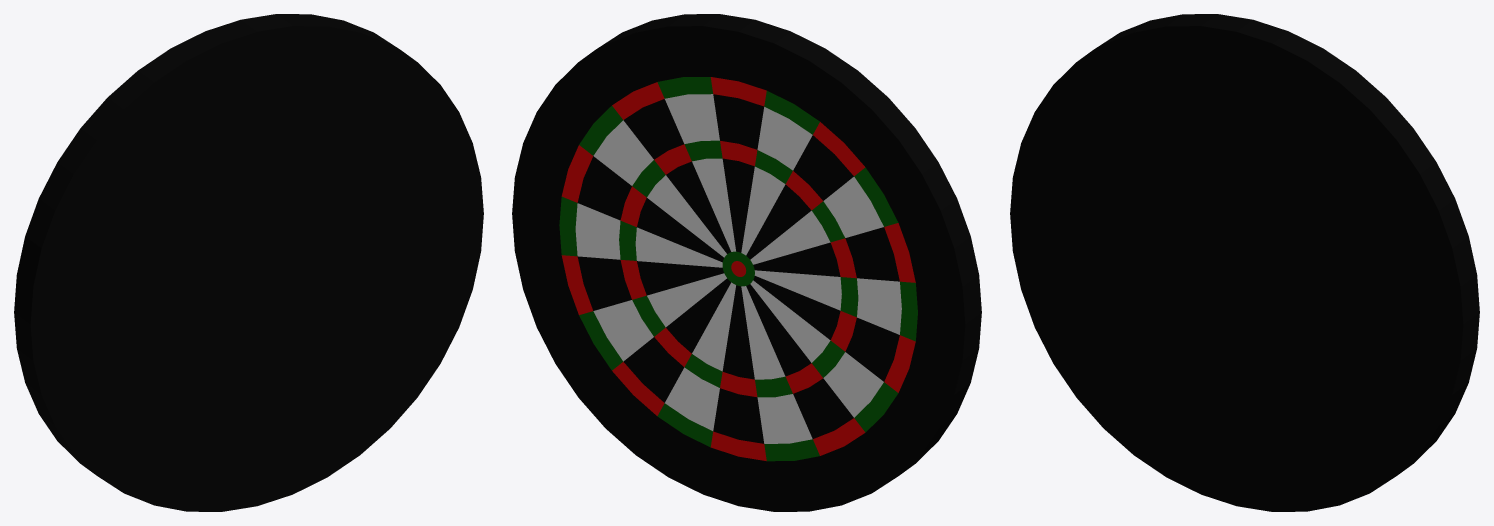
Rendered from darts_terget.fbx.
The picture shows the model from 3 angles, left to right: view 1: azimuth 30°, elevation 25°; view 2: azimuth 150°, elevation 25°; view 3: azimuth 330°, elevation 25°; orthographic projection.
Parts seen in each view (by area): view 1: Terget; view 2: Terget; view 3: Terget.
Boxes of the visible parts, x1,y1,x2,y2 form: Terget: [14, 14, 483, 511]; Terget: [512, 14, 981, 511]; Terget: [1010, 14, 1479, 511].
Size of the model in its own units: 1779 by 1779 by 112.
